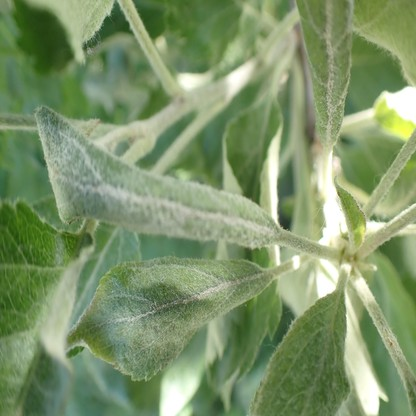powder: (35, 104, 279, 249), (67, 258, 272, 382), (0, 235, 95, 414), (250, 291, 351, 416), (295, 0, 353, 150), (29, 0, 116, 66)
